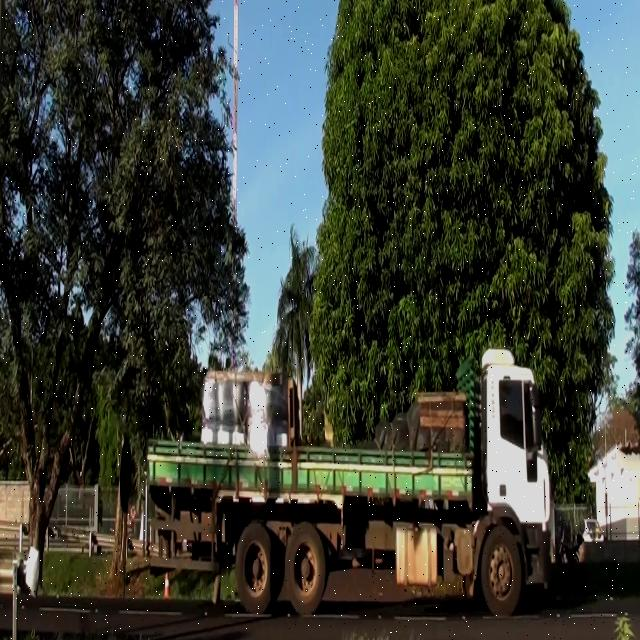-axle: (237, 518, 277, 614), (481, 525, 522, 617), (284, 524, 326, 608)
